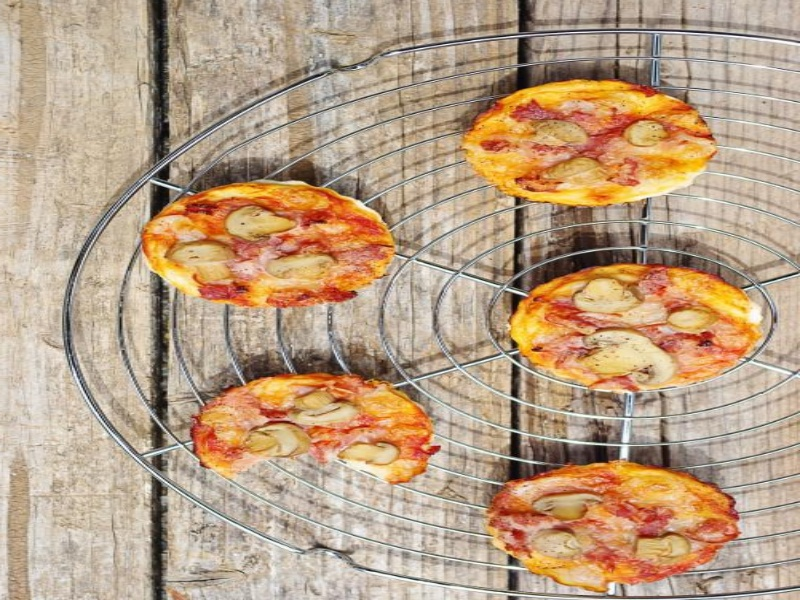champignon: (578, 329, 683, 387), (162, 242, 245, 286), (261, 248, 345, 288), (224, 201, 300, 244), (528, 489, 620, 523), (287, 387, 365, 426), (570, 277, 650, 315), (636, 524, 695, 570), (333, 435, 406, 471)
